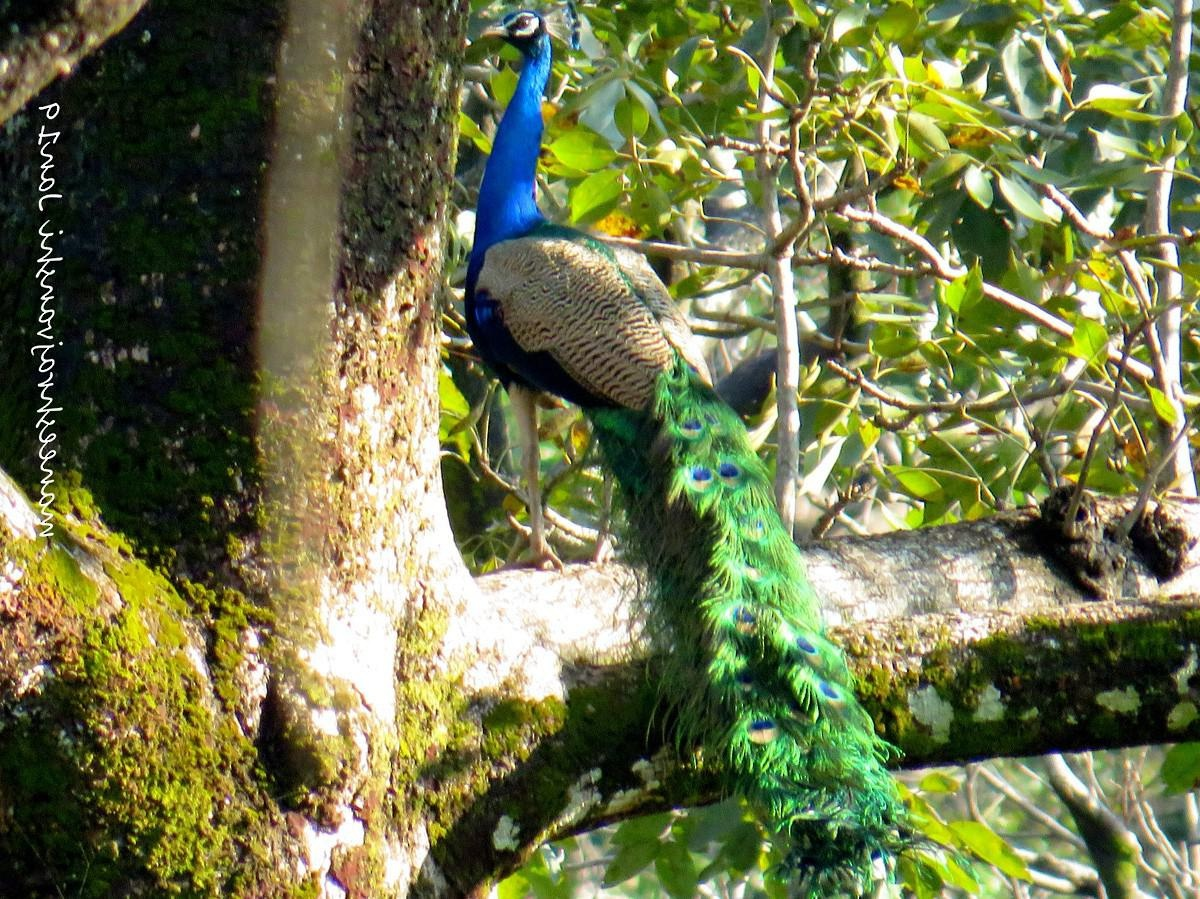peacock: (439, 15, 945, 841)
